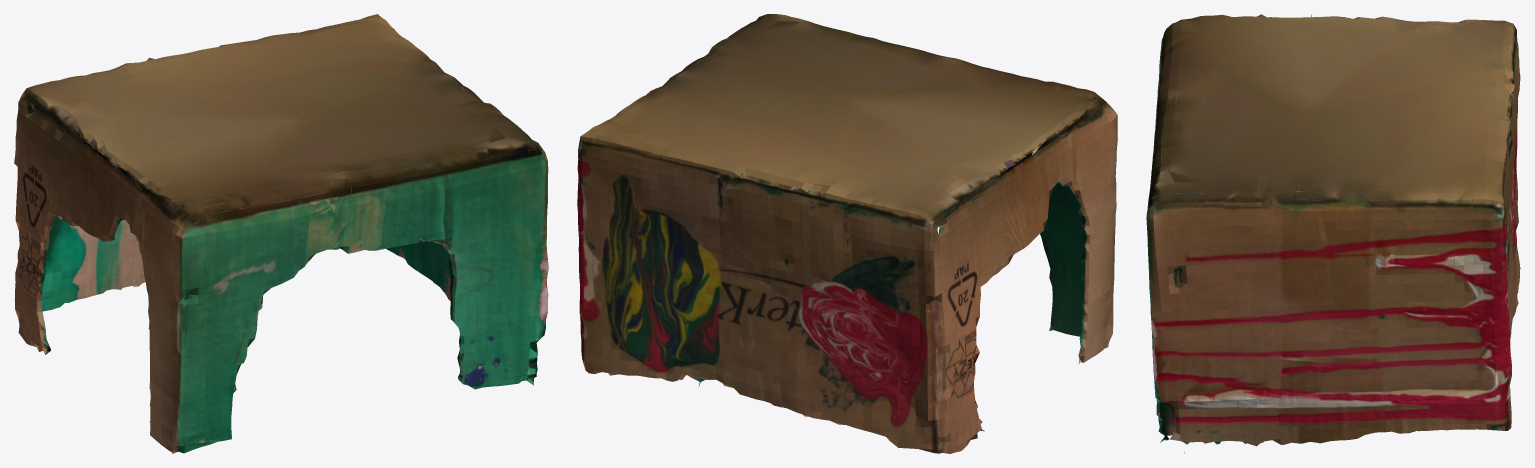
Rendered from SchachtelHaus_2Tore.fbx.
The picture shows the model from 3 angles, left to right: view 1: azimuth 30°, elevation 25°; view 2: azimuth 150°, elevation 25°; view 3: azimuth 270°, elevation 25°; orthographic projection.
Visible parts, largest first — view 1: SchachtelBemalt2Torewaende, SchachtelBemalt2Tore_dach; view 2: SchachtelBemalt2Torewaende, SchachtelBemalt2Tore_dach; view 3: SchachtelBemalt2Torewaende, SchachtelBemalt2Tore_dach.
Part boxes in pixels (left/top/right/bottom): SchachtelBemalt2Torewaende: left=14, top=107, right=548, bottom=453; SchachtelBemalt2Tore_dach: left=18, top=14, right=545, bottom=237; SchachtelBemalt2Torewaende: left=577, top=115, right=1117, bottom=453; SchachtelBemalt2Tore_dach: left=579, top=14, right=1117, bottom=241; SchachtelBemalt2Torewaende: left=1146, top=41, right=1520, bottom=453; SchachtelBemalt2Tore_dach: left=1148, top=14, right=1517, bottom=216.
Bounding box in the file's own units: 9.94 × 6.67 × 8.51.
